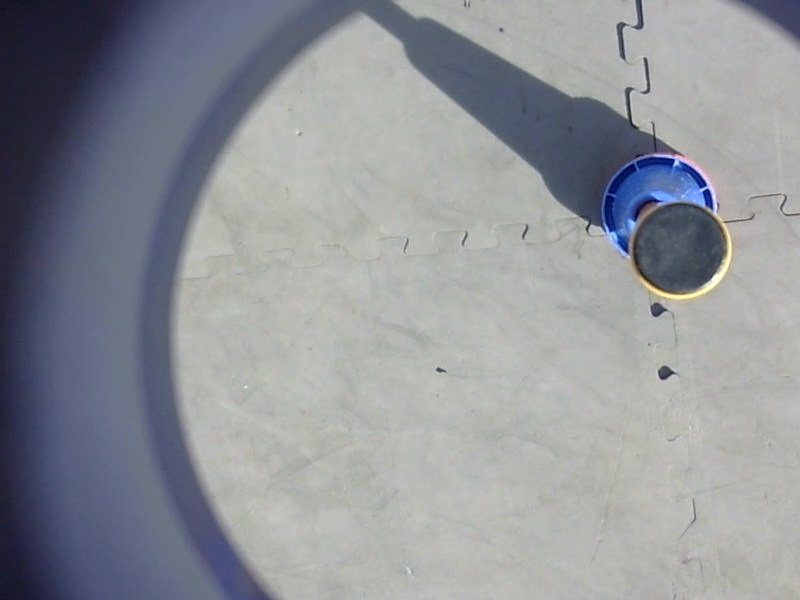tip: (623, 195, 739, 306)
